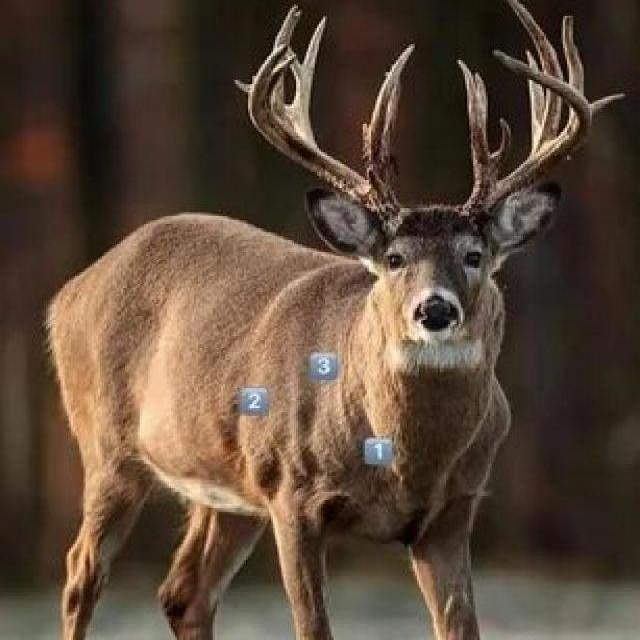deer: (90, 91, 616, 584)
